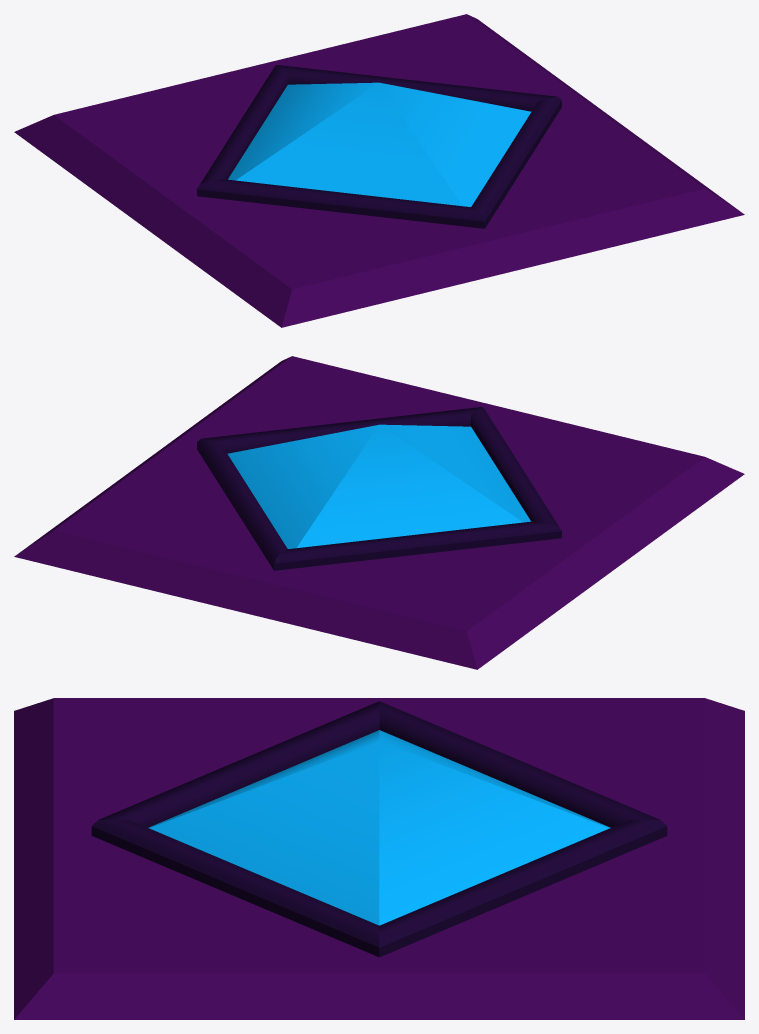
The model's file is Object_Cloud tile.FBX.
3 renders of one model, top to bottom at view 1: azimuth 30°, elevation 25°; view 2: azimuth 150°, elevation 25°; view 3: azimuth 270°, elevation 25°, orthographic. The views are drawn at different scales.
Parts seen in each view (by area): view 1: Object_Cloud tile, Object_Cloud tile_glow; view 2: Object_Cloud tile, Object_Cloud tile_glow; view 3: Object_Cloud tile, Object_Cloud tile_glow.
Part boxes in pixels (x1,y1,x2,y2): Object_Cloud tile: (14,14,744,327); Object_Cloud tile_glow: (228,82,531,206); Object_Cloud tile: (14,356,744,669); Object_Cloud tile_glow: (227,424,530,548); Object_Cloud tile: (14,698,744,1019); Object_Cloud tile_glow: (148,730,610,925).
Bounding box in the file's own units: 96.32 × 18.03 × 96.32.
